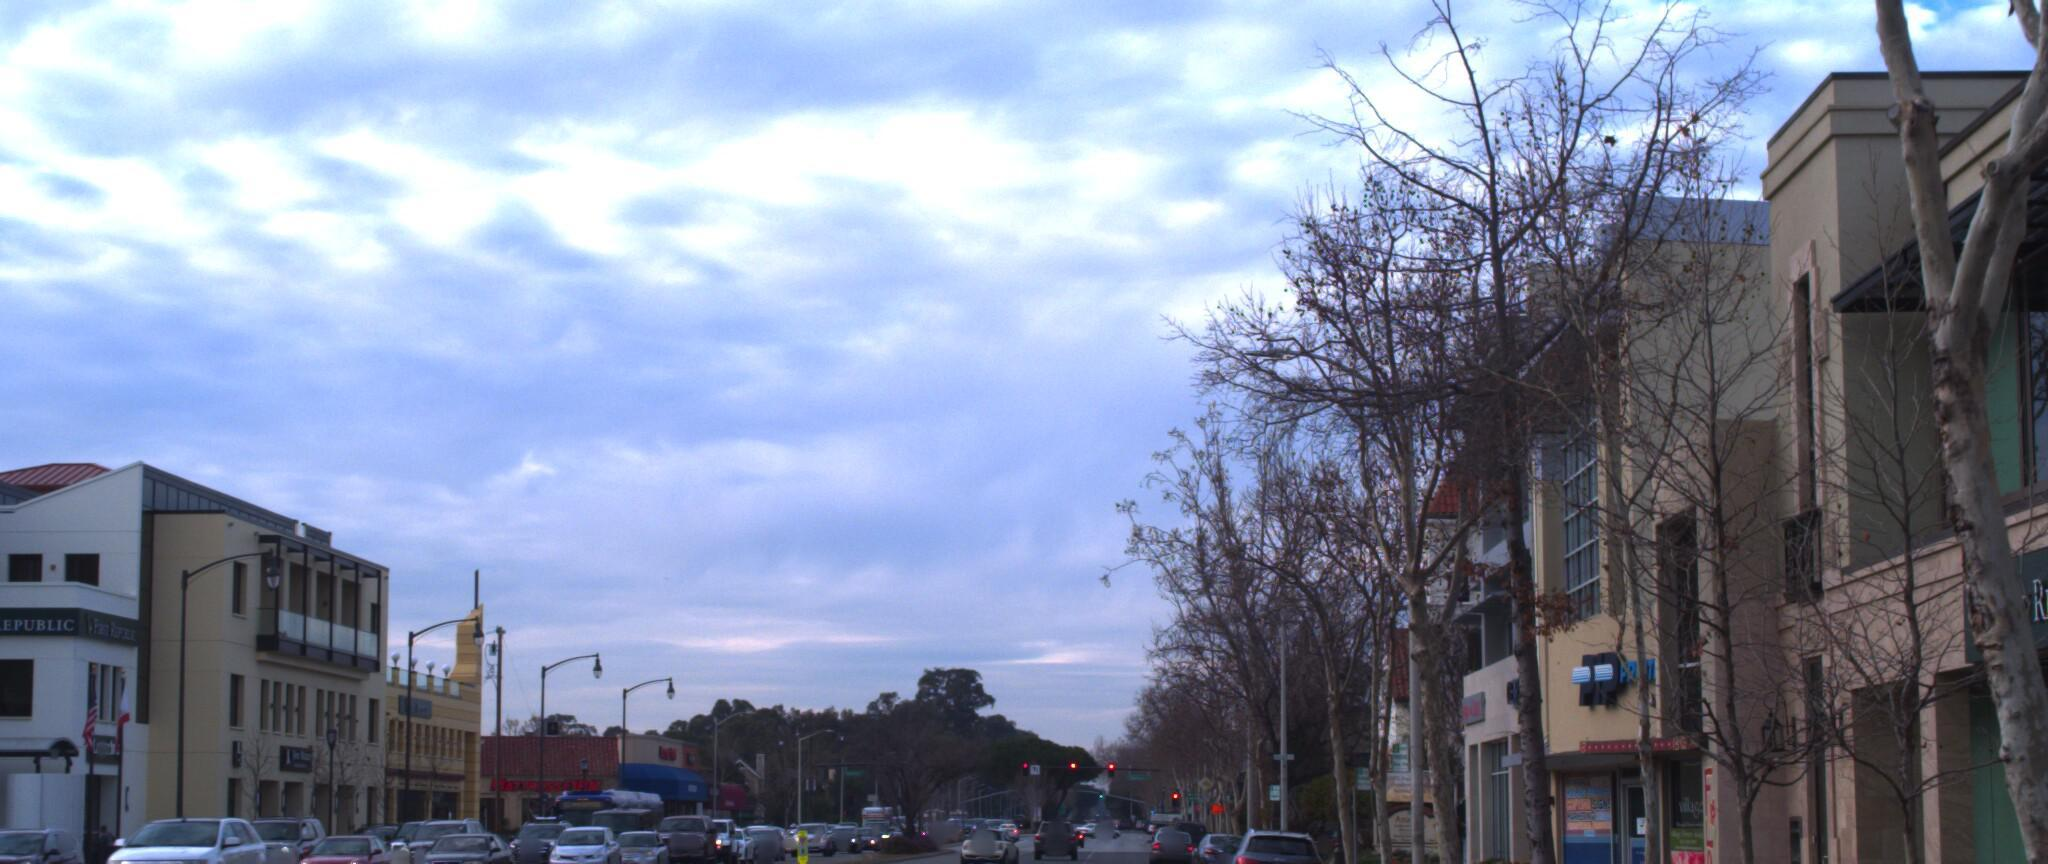car: (84, 814, 274, 864), (0, 824, 114, 864), (398, 826, 505, 864), (1219, 827, 1326, 864), (280, 830, 391, 864)
